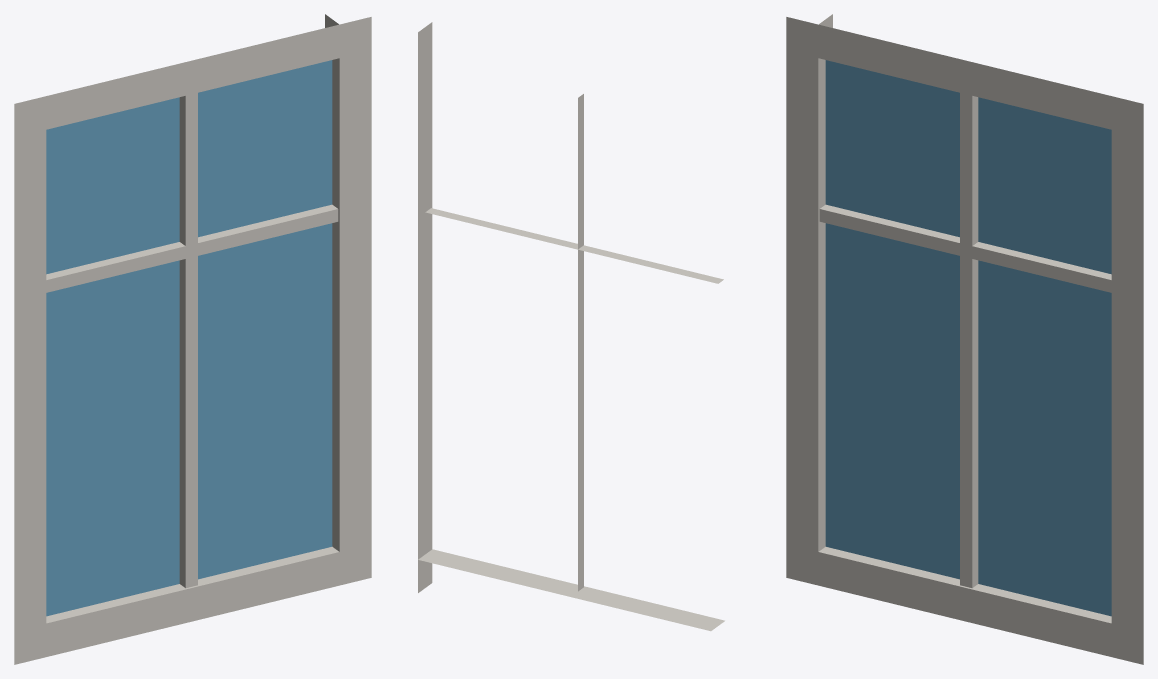
Rendered from window.glb.
The picture shows the model from 3 angles, left to right: view 1: azimuth 30°, elevation 25°; view 2: azimuth 150°, elevation 25°; view 3: azimuth 330°, elevation 25°; orthographic projection.
Bounding box in the file's own units: 1 × 1.5 × 0.07.
